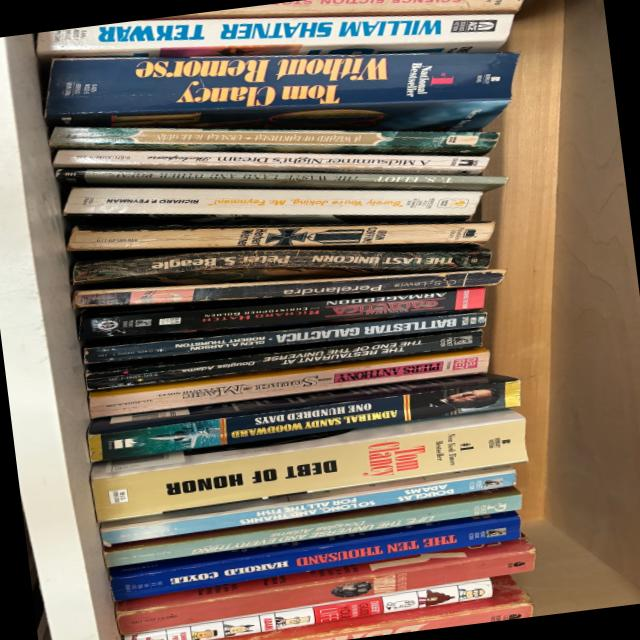book: (87, 403, 529, 522), (113, 535, 537, 636), (43, 51, 520, 138), (86, 368, 519, 461), (106, 508, 522, 601), (101, 484, 523, 570), (98, 461, 517, 546), (88, 345, 491, 417), (82, 320, 483, 391), (76, 281, 486, 340), (123, 576, 494, 640), (80, 309, 486, 364), (203, 573, 533, 640), (35, 13, 512, 59), (70, 239, 490, 290), (62, 186, 481, 229), (70, 268, 506, 308), (48, 126, 497, 156), (66, 220, 494, 251), (51, 148, 488, 175), (55, 167, 506, 193), (148, 0, 523, 20)
